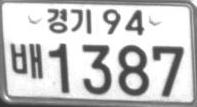2: (47, 42, 72, 93)
3: (81, 43, 113, 95)
4: (125, 9, 145, 36)
7: (151, 45, 186, 97)
8: (117, 44, 149, 95)
9: (102, 9, 120, 34)
경기_H: (47, 8, 92, 33)
배: (9, 42, 44, 81)
